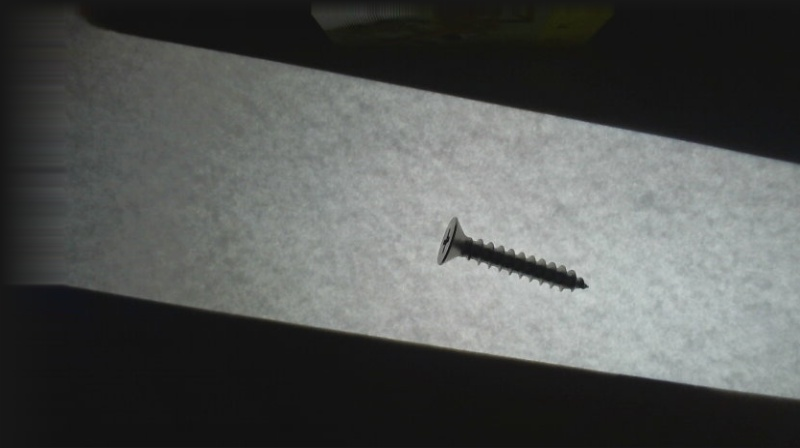S001: (433, 215, 592, 294)
